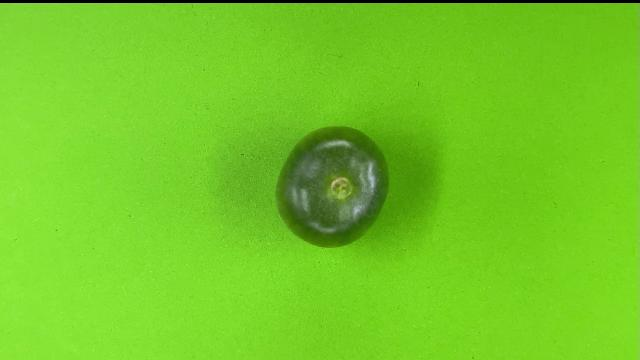Fruit Maturation: (274, 125, 390, 249)
